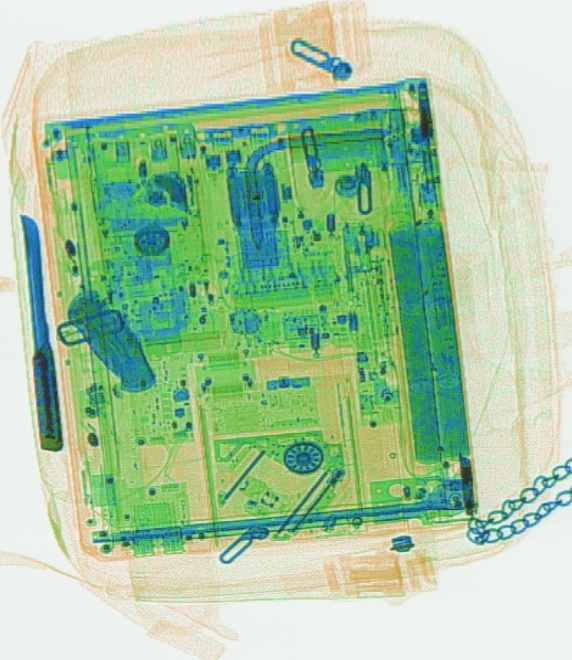knife: (17, 210, 66, 451), (64, 287, 156, 392)
